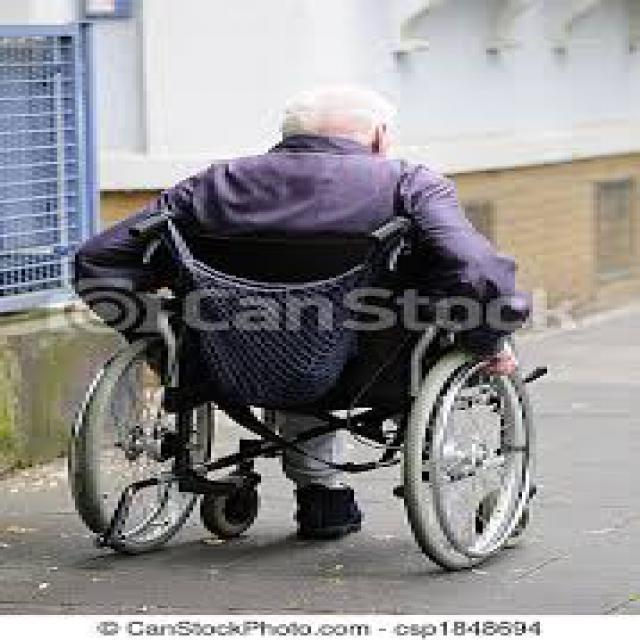wheelchairs: (50, 200, 547, 572)
